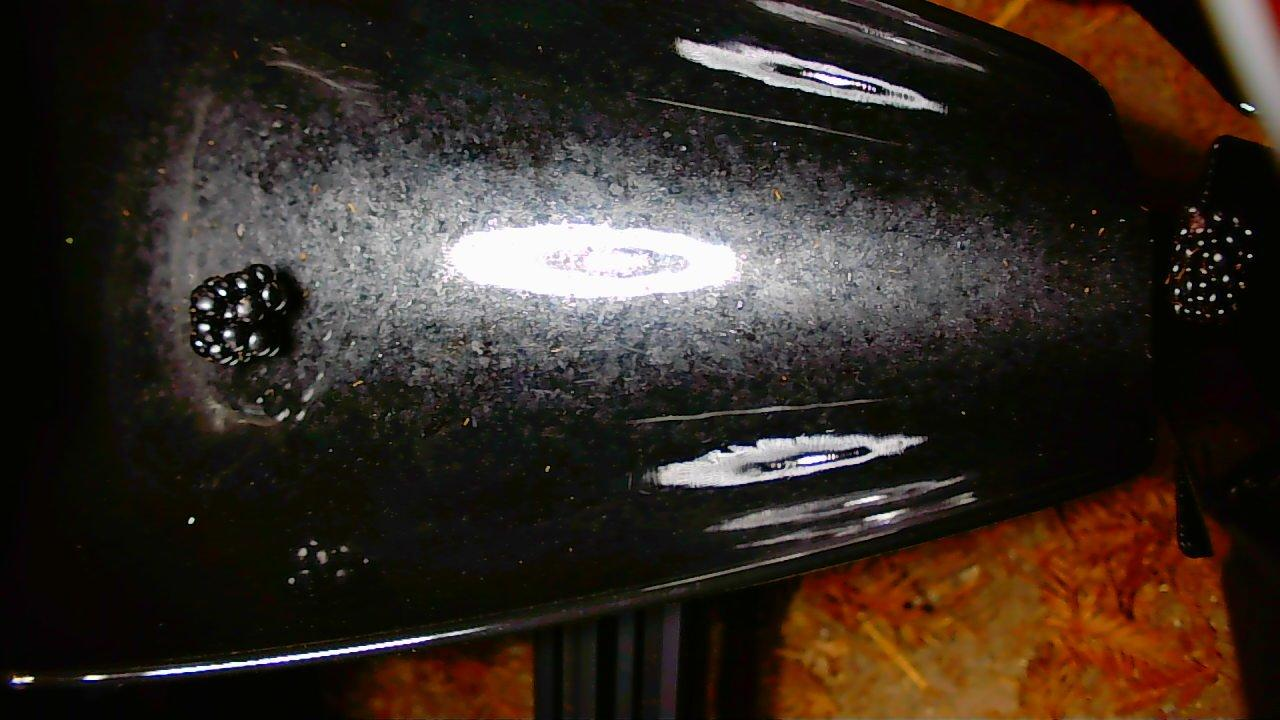berry: (1166, 204, 1253, 322), (189, 264, 289, 365)
